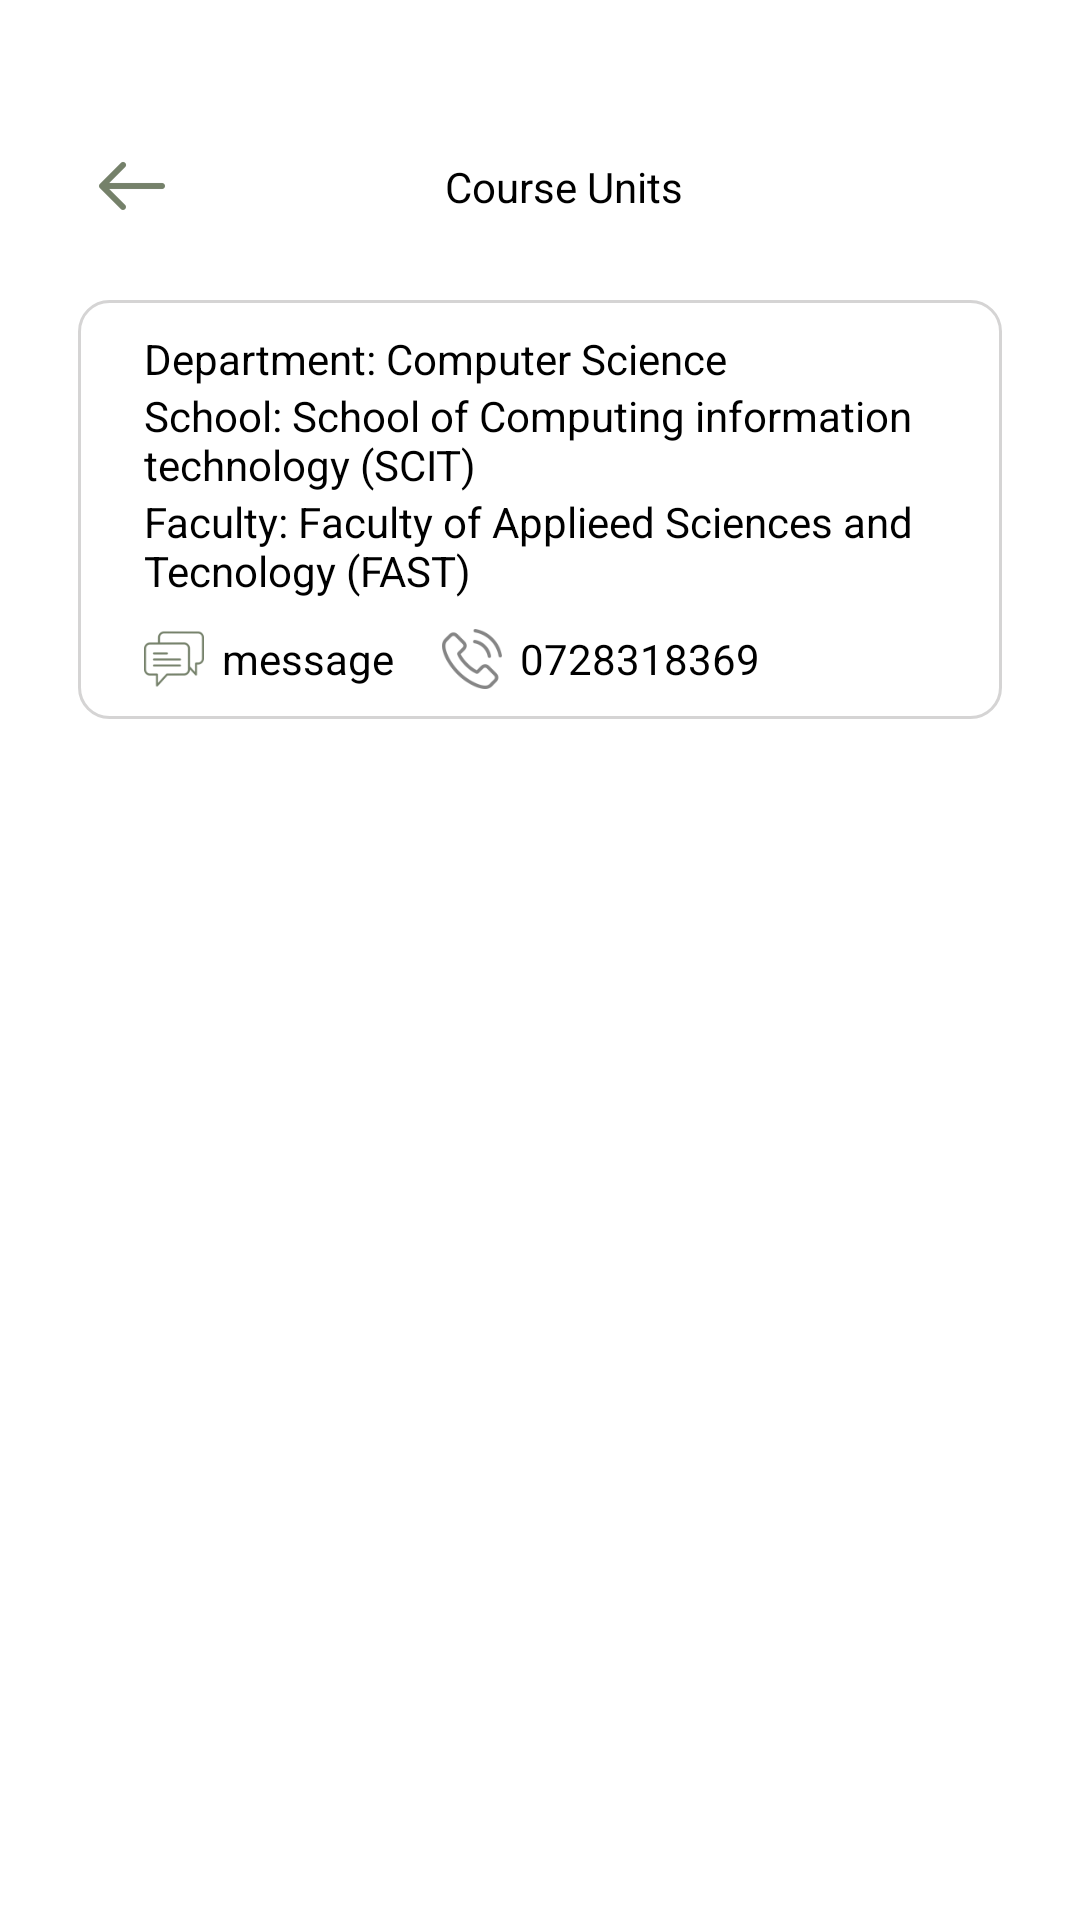

Icon click points for this 1080 x 1920 phone screenshot, format (x,y):
back arrow: (132,186)
chats: (174,659)
pone: (472,659)
